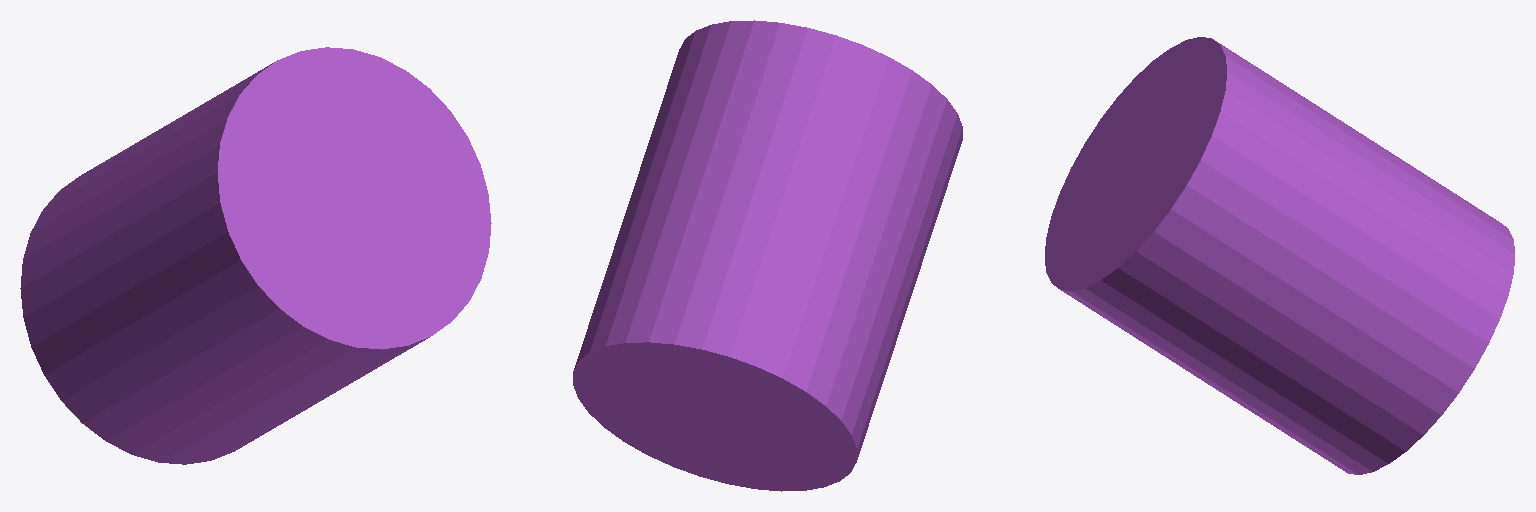
The robot description file, URDF, robot "fall_cylinder":
<?xml version="1.0"?>
<!-- 회전 낙하 시험 5: 원통(반지름 0.12 m, 높이 0.3 m)을 기울여 놓는다. 모서리로 닿아 구르다 멈춘다 (원통은 꼭짓점 근사라 각지게 구른다).
     뷰어에서 열면 위(z=1.5 m 근처)에서 시작해 중력으로 떨어진다. 기울어진 채 닿으면 모서리로 구르다 한 면에 서서 멈춘다. 단위 m, rad. -->
<robot name="fall_cylinder">
  <material name="body"><color rgba="0.7 0.4 0.8 1"/></material>
  <link name="fall_cylinder_link">
    <inertial><origin xyz="0 0 1.5"/><mass value="1.0"/><inertia ixx="0.02" ixy="0" ixz="0" iyy="0.02" iyz="0" izz="0.02"/></inertial>
    <visual>
      <origin xyz="0 0 1.5" rpy="0.9 0.2 0"/>
      <geometry><cylinder radius="0.12" length="0.3"/></geometry>
      <material name="body"/>
    </visual>
  </link>
</robot>

--- Facts derived from the render (not from the file) ---
The picture shows the robot from 3 angles, left to right: view 1: azimuth 30°, elevation 25°; view 2: azimuth 150°, elevation 25°; view 3: azimuth 270°, elevation 25°; orthographic projection.
Model fall_cylinder with 1 links and 0 joints (none), rooted at fall_cylinder_link, posed all joints at 0.
Visible links, largest first — view 1: fall_cylinder_link; view 2: fall_cylinder_link; view 3: fall_cylinder_link.
Link boxes in pixels (x1,y1,x2,y2): fall_cylinder_link: (20, 47, 491, 464); fall_cylinder_link: (573, 20, 962, 491); fall_cylinder_link: (1045, 37, 1514, 474).
Size in the robot's own frame: 0.275 by 0.3842 by 0.3728 metres.
Geometry: primitives only (box / cylinder / sphere), no mesh files.
